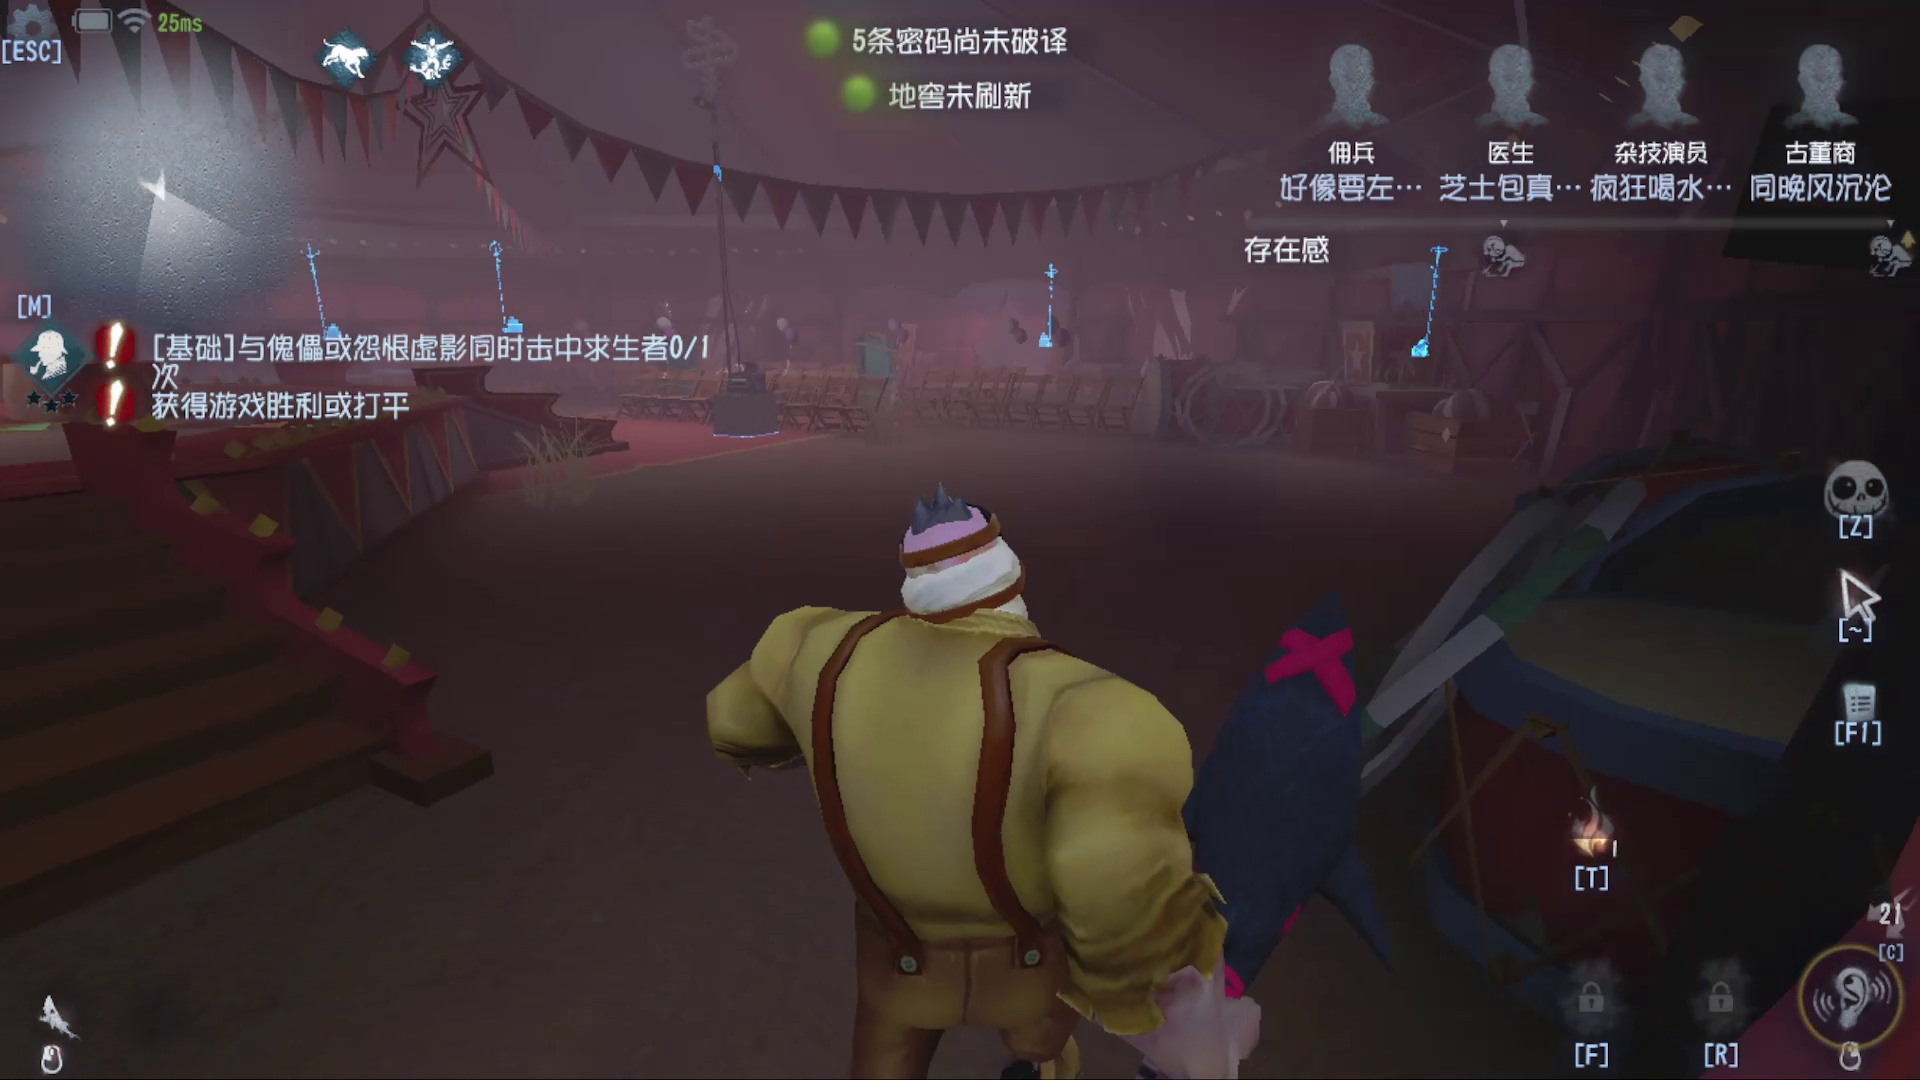密码机: (659, 4, 808, 454), (1379, 236, 1460, 372), (291, 228, 353, 357), (473, 231, 534, 345), (1029, 252, 1069, 356)
木板: (847, 326, 911, 419), (669, 328, 704, 402)
